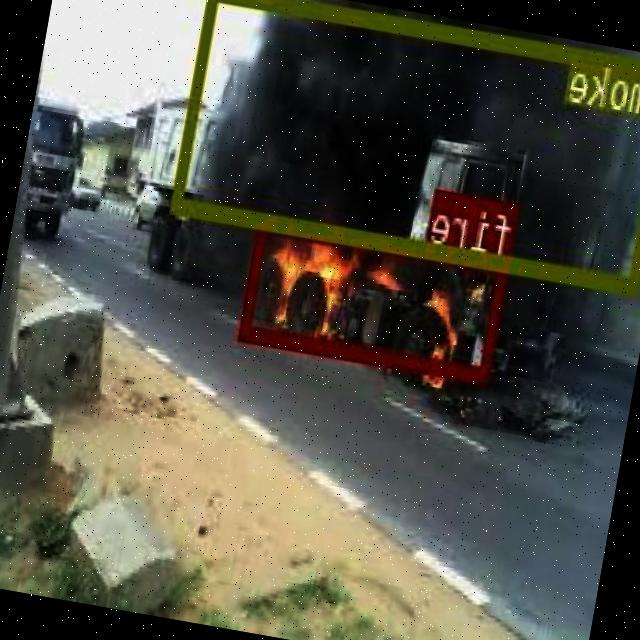fire: (240, 214, 512, 380)
smoke: (173, 0, 640, 293)
